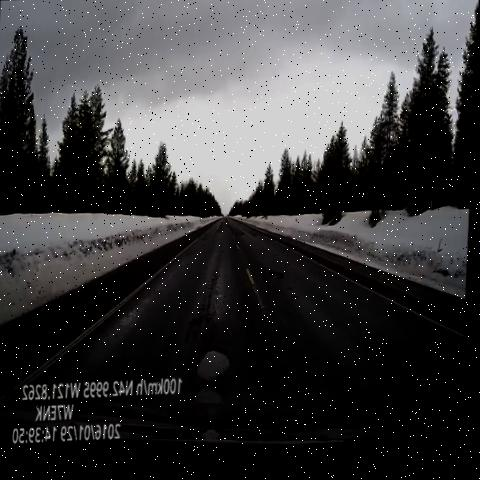pothole: (192, 339, 239, 391), (261, 259, 297, 296), (195, 381, 232, 416)
